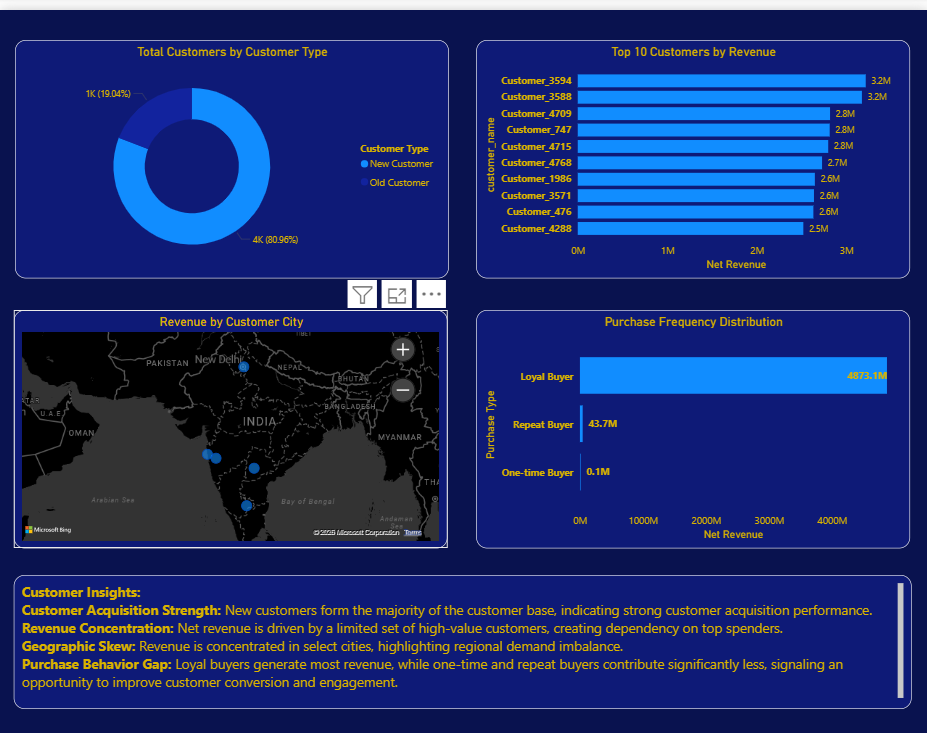

What the dashboard file says about the page in this screenshot:
{"tool":"powerbi","page":{"name":"Customer & Market Analysis","canvas":[1280,1000],"ordinal":1},"visuals":[{"type":"map","title":"Revenue by Customer City","fields":{"Category":["dim_customers.city"],"Size":["_Measures.Net Revenue"]},"box":[18.6,413.6,598.3,328.8],"z":0},{"type":"clusteredBarChart","title":"Top 10 Customers by Revenue","fields":{"Category":["dim_customers.customer_name"],"Y":["_Measures.Net Revenue"]},"box":[657.6,40.7,598.3,328.8],"z":1000},{"type":"donutChart","fields":{"Category":["dim_customers.Customer Type"],"Y":["_Measures.Total Customers"]},"box":[20.3,40.7,598.3,328.8],"z":2000},{"type":"clusteredBarChart","title":"Purchase Frequency Distribution","fields":{"Category":["dim_customers.Purchase Type"],"Y":["_Measures.Net Revenue"]},"box":[657.6,413.6,598.3,328.8],"z":3000},{"type":"textbox","box":[18.3,778.9,1238,184.5],"z":4000}]}

Visuals, with their boxes in screenshot pixels (x1, y1, x2, y2), scaled from the page's 1280x1000 canvas onto the 927x733 screenshot:
"Revenue by Customer City" map: 13,303,447,544
"Top 10 Customers by Revenue" clusteredBarChart: 476,30,910,271
donutChart - dim_customers.Customer Type x _Measures.Total Customers: 15,30,448,271
"Purchase Frequency Distribution" clusteredBarChart: 476,303,910,544
textbox: 13,571,910,706
